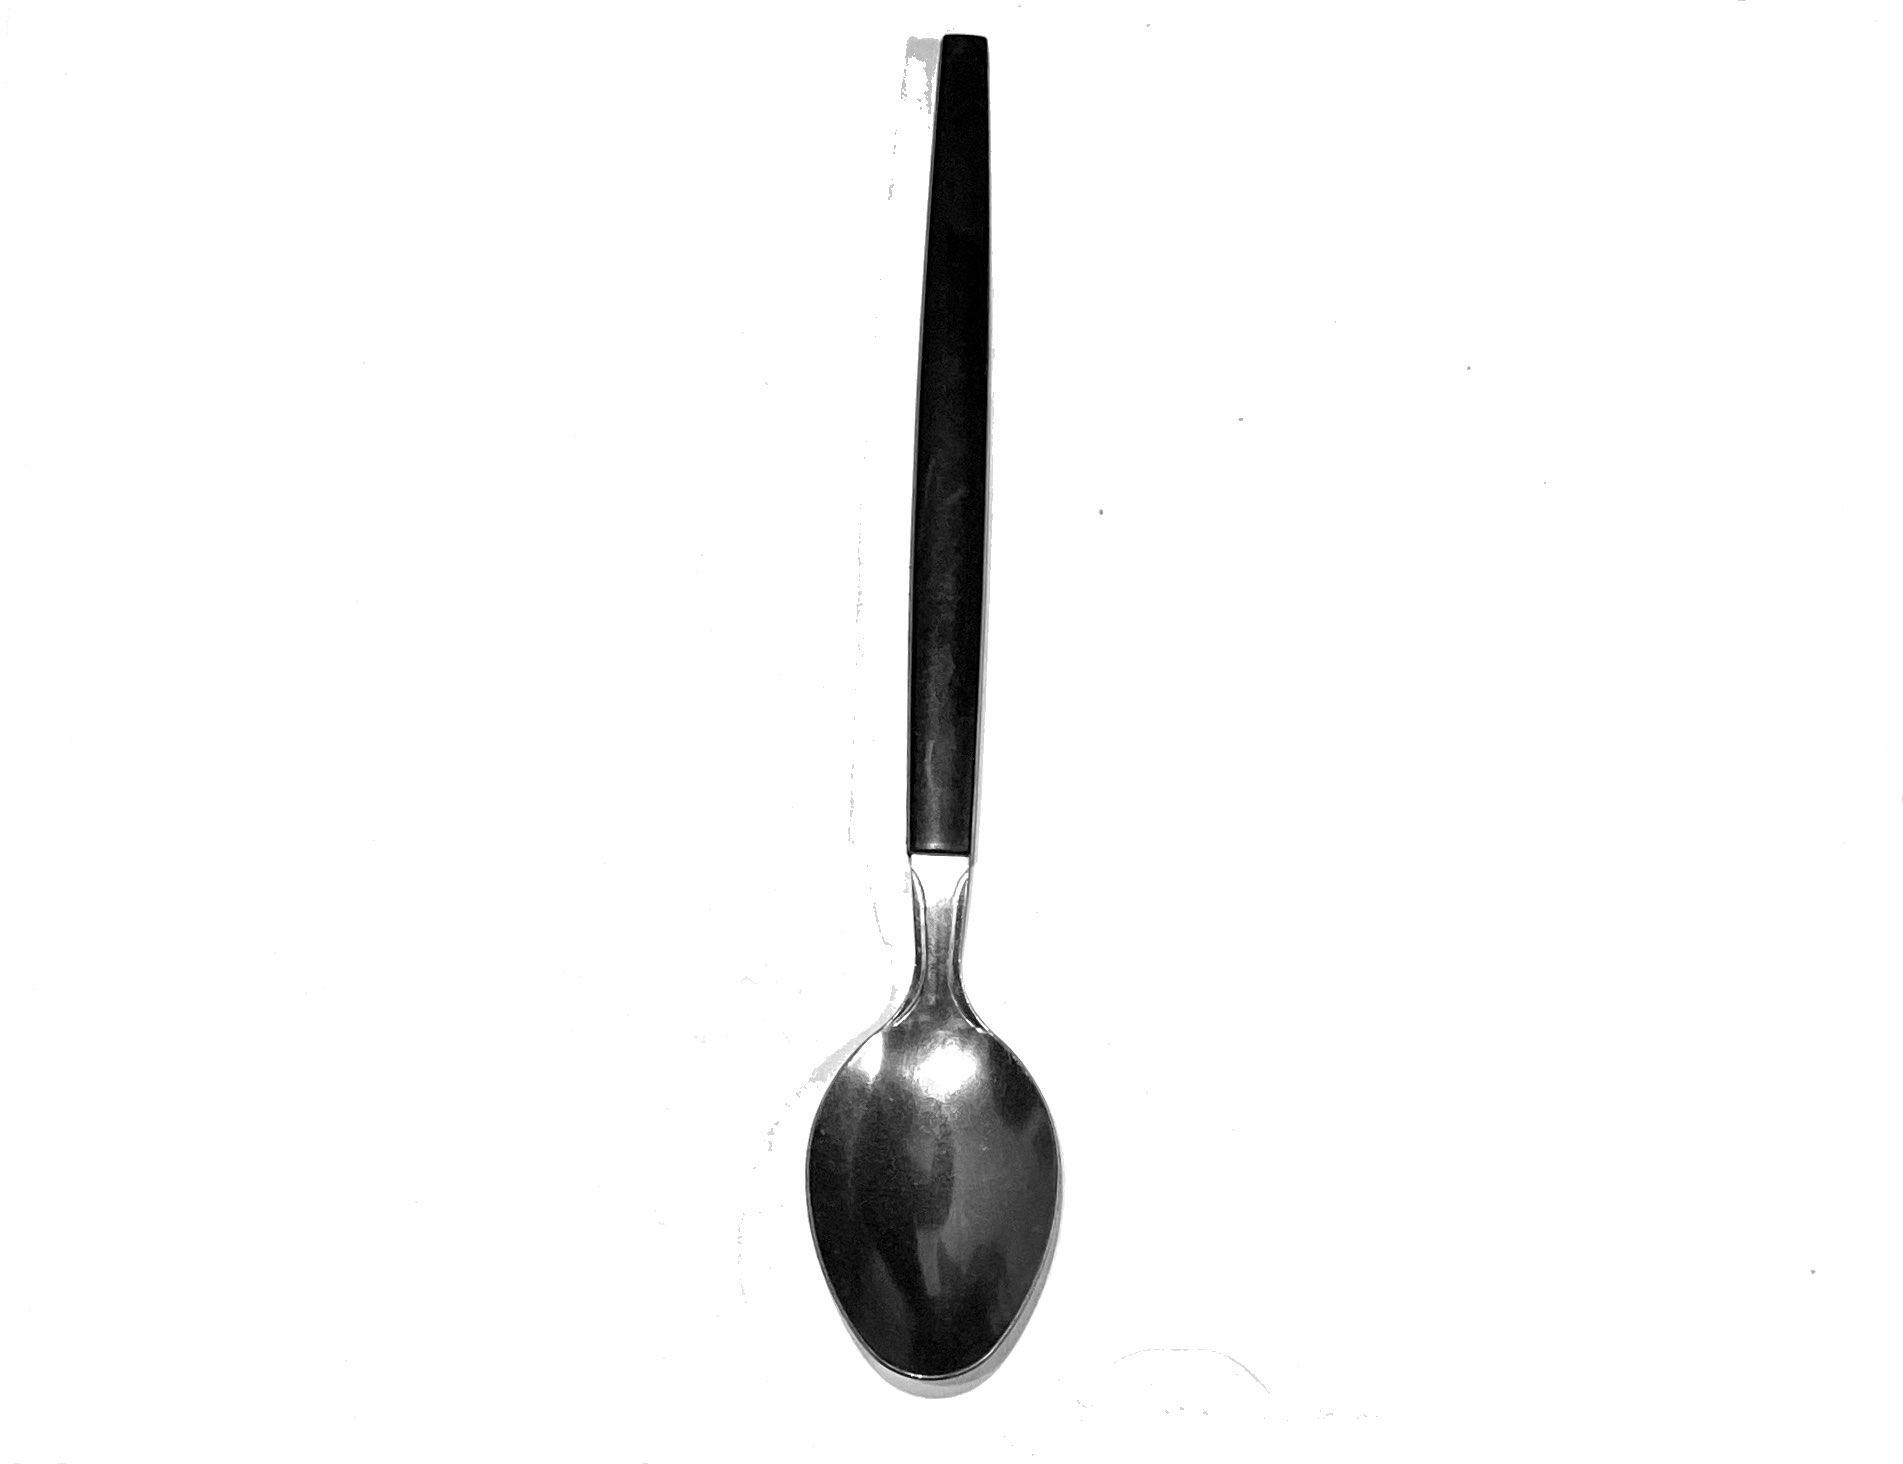Spoon: (766, 20, 1202, 1436)
